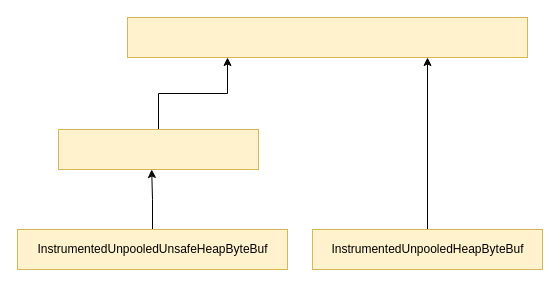
Image size: 560x287. Some labels were removed from this diagram. Here are the shapes that lost their labels. From the top down, the box of each, then its label:
(126, 16, 528, 58): UnpooledHeapByteBuf
(58, 128, 258, 170): UnpooledUnsafeHeapByteBuf
